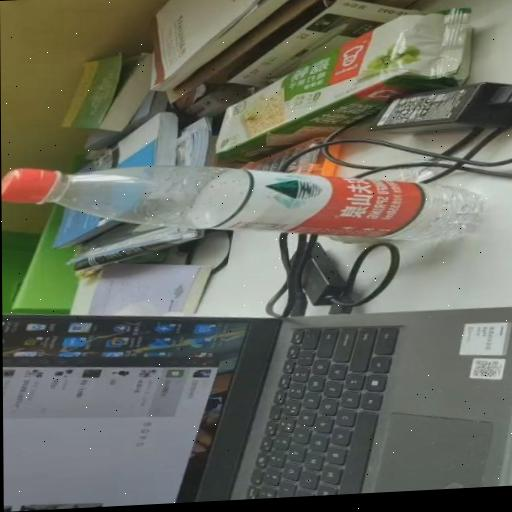ba: (1, 115, 487, 301)
